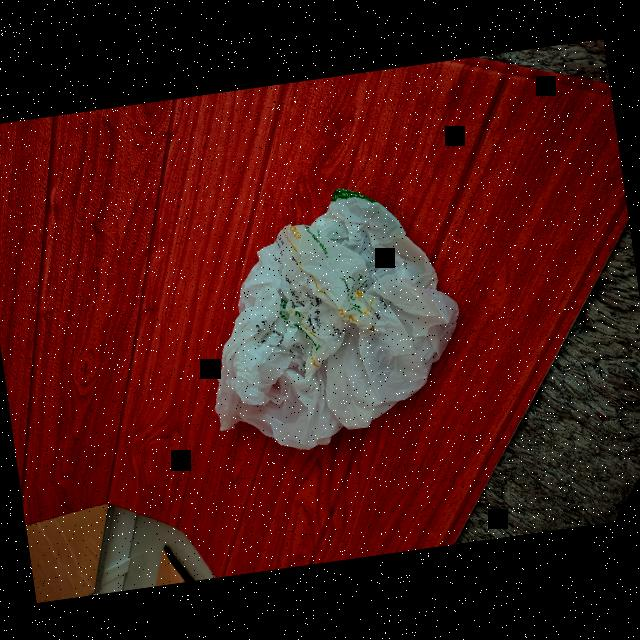plastic_bag: (188, 176, 472, 456)
